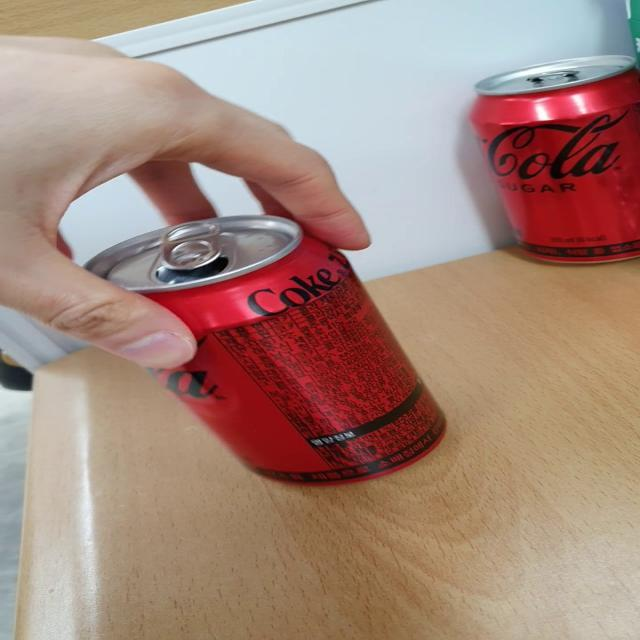coca-cola: (74, 198, 462, 482), (450, 39, 640, 279)
